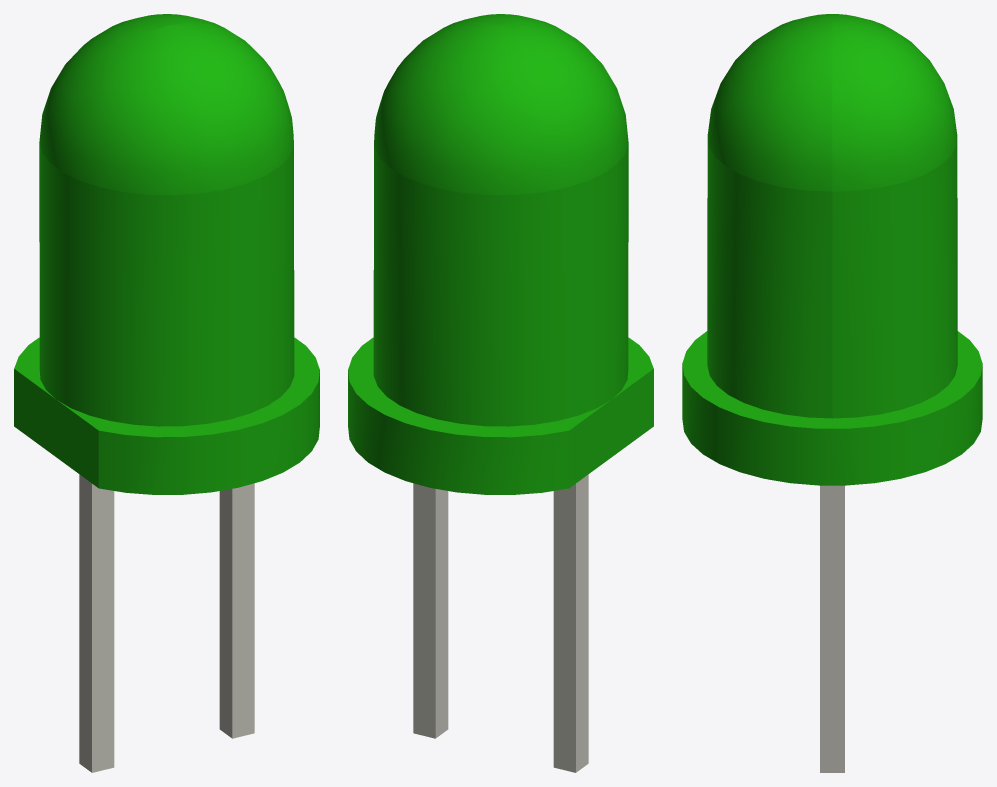
The model's file is kc-led_d4.0mm_green.glb.
3 views of the same model, side by side, from view 1: azimuth 30°, elevation 25°; view 2: azimuth 150°, elevation 25°; view 3: azimuth 270°, elevation 25° (orthographic).
Visible parts, largest first — view 1: 0_0.4166666666666667_0_0, 0.6666666666666666_0.6666666666666666_0.5833333333333334_0.8; view 2: 0_0.4166666666666667_0_0, 0.6666666666666666_0.6666666666666666_0.5833333333333334_0.8; view 3: 0_0.4166666666666667_0_0, 0.6666666666666666_0.6666666666666666_0.5833333333333334_0.8.
Part boxes in pixels (box(x1,y1,x2,y2)): 0_0.4166666666666667_0_0: box(14, 14, 319, 494); 0.6666666666666666_0.6666666666666666_0.5833333333333334_0.8: box(79, 474, 254, 772); 0_0.4166666666666667_0_0: box(348, 14, 653, 494); 0.6666666666666666_0.6666666666666666_0.5833333333333334_0.8: box(413, 474, 588, 772); 0_0.4166666666666667_0_0: box(682, 14, 982, 485); 0.6666666666666666_0.6666666666666666_0.5833333333333334_0.8: box(820, 485, 844, 772).
Size of the model in its own units: 0.4389 by 1.25 by 0.4797.
